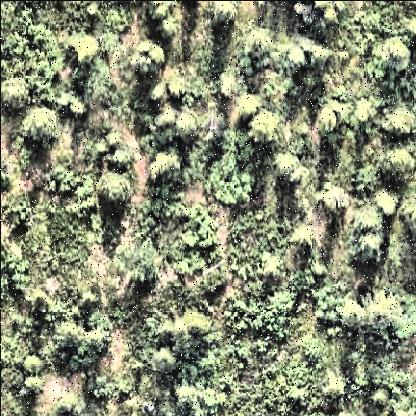tree-top: (343, 286, 411, 336), (211, 155, 255, 208), (52, 325, 103, 369), (114, 246, 159, 289), (28, 292, 80, 327), (342, 232, 384, 270), (1, 253, 31, 306), (373, 146, 415, 182), (145, 141, 183, 179), (19, 111, 61, 145), (179, 304, 218, 340), (132, 37, 165, 77), (376, 38, 414, 70), (168, 66, 203, 100), (244, 23, 275, 61), (102, 171, 136, 205), (172, 380, 206, 412), (86, 377, 124, 404), (147, 346, 181, 376), (71, 35, 101, 67), (185, 348, 219, 376), (317, 373, 353, 399), (1, 73, 27, 109), (52, 390, 87, 416), (389, 105, 415, 139), (265, 291, 296, 319), (153, 14, 182, 43), (279, 42, 303, 76), (171, 108, 201, 135), (364, 386, 394, 412), (203, 1, 233, 27), (376, 190, 402, 219), (66, 95, 90, 125), (23, 354, 51, 376), (239, 91, 264, 115), (316, 5, 338, 30)
